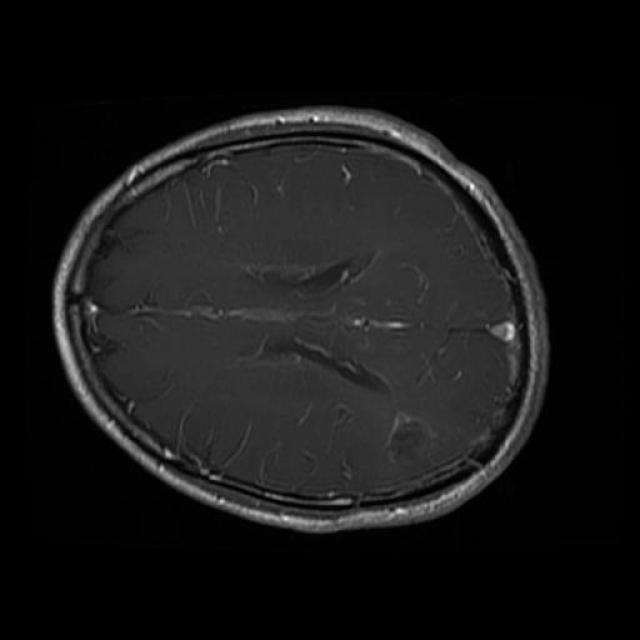Glioma: (376, 411, 466, 486)
